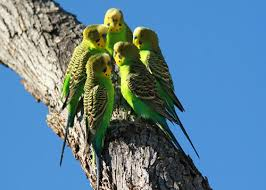budgie: (112, 40, 168, 142), (82, 51, 115, 188), (132, 26, 168, 71), (77, 23, 109, 51), (103, 7, 131, 30)
